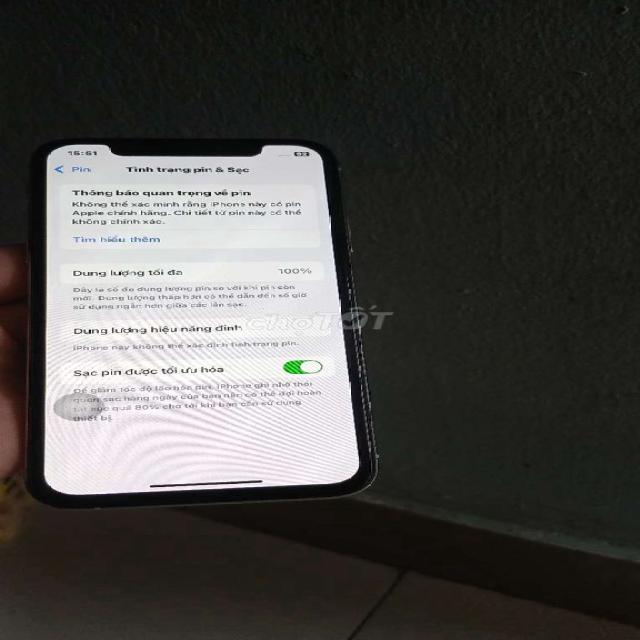gen_x_xs: (22, 129, 397, 515)
